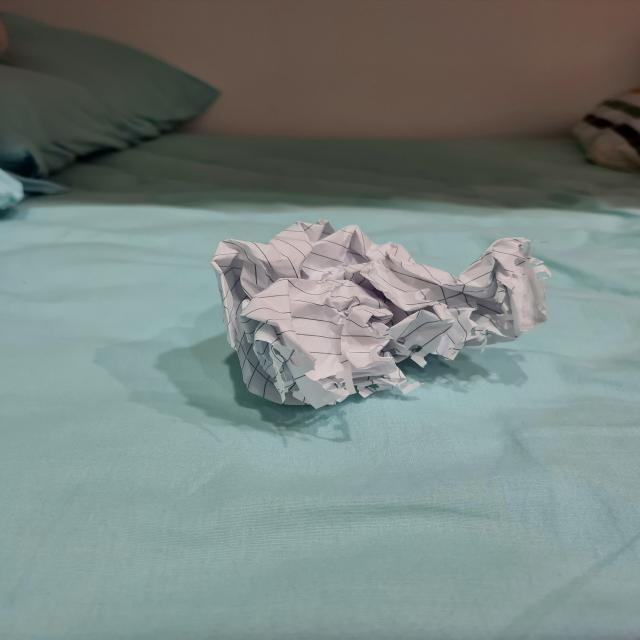Paper: (200, 209, 563, 428)
